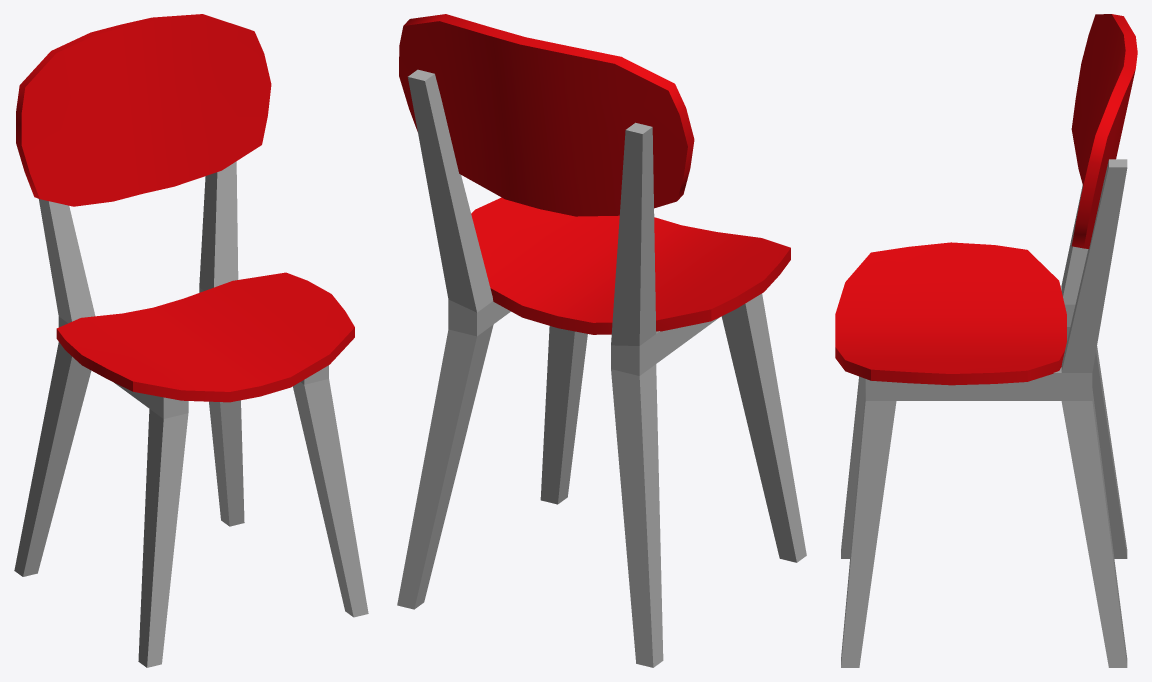
File: Silla.fbx
3 renders of one model, left to right at view 1: azimuth 30°, elevation 25°; view 2: azimuth 150°, elevation 25°; view 3: azimuth 270°, elevation 25°, orthographic. The views are drawn at different scales.
Visible parts, largest first — view 1: Respaldo, Patas, Cojin; view 2: Patas, Respaldo, Cojin; view 3: Patas, Cojin, Respaldo.
Part boxes in pixels (left/top/right/bottom): Respaldo: left=16, top=14, right=271, bottom=206; Patas: left=14, top=161, right=368, bottom=667; Cojin: left=56, top=272, right=354, bottom=402; Patas: left=397, top=69, right=806, bottom=667; Respaldo: left=399, top=14, right=694, bottom=216; Cojin: left=471, top=197, right=790, bottom=334; Patas: left=841, top=159, right=1127, bottom=667; Cojin: left=835, top=242, right=1066, bottom=385; Respaldo: left=1071, top=14, right=1137, bottom=248.
Bounding box in the file's own units: 30.22 × 59.86 × 29.35.
